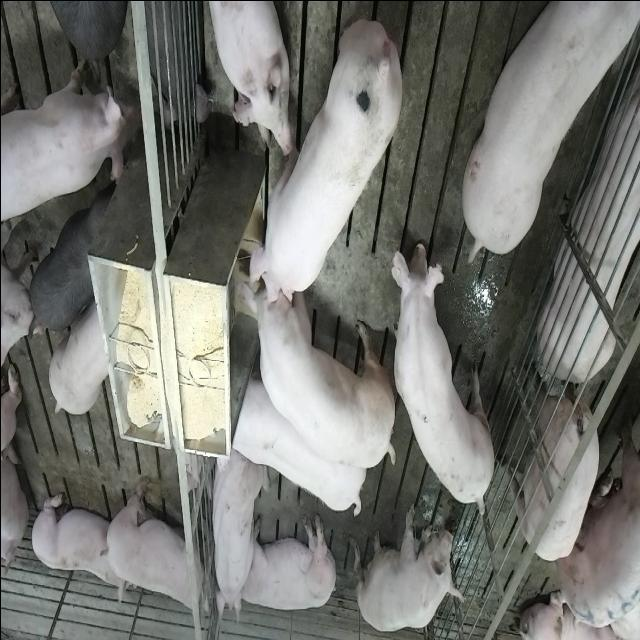Feeding: (240, 14, 404, 308), (228, 258, 392, 472)
Lateral_lying: (213, 512, 339, 622)
Sitting: (354, 500, 467, 632)
Standing: (465, 0, 640, 256), (392, 228, 497, 512), (2, 59, 134, 230), (506, 362, 606, 566), (228, 374, 367, 518), (556, 412, 640, 630), (100, 474, 204, 619), (29, 182, 111, 335), (47, 299, 109, 415), (42, 2, 122, 66)
Sternal_lying: (539, 34, 640, 388), (204, 0, 292, 157), (28, 486, 124, 604)
